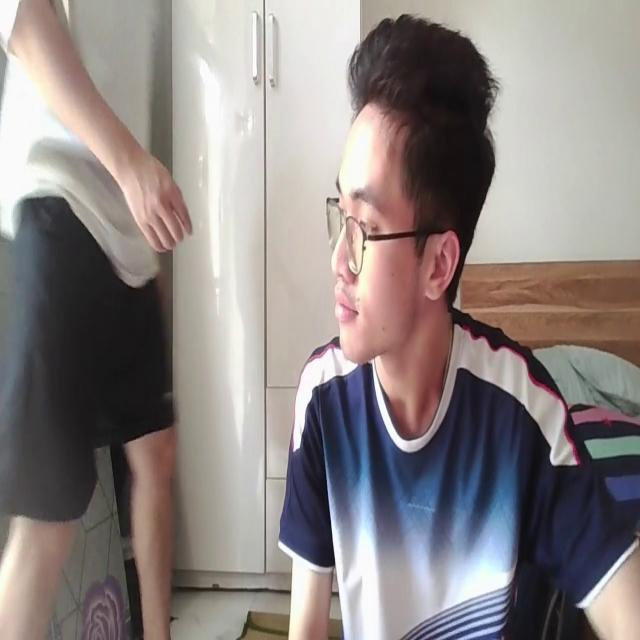extra_person: (0, 0, 192, 640)
student: (278, 4, 640, 640)
